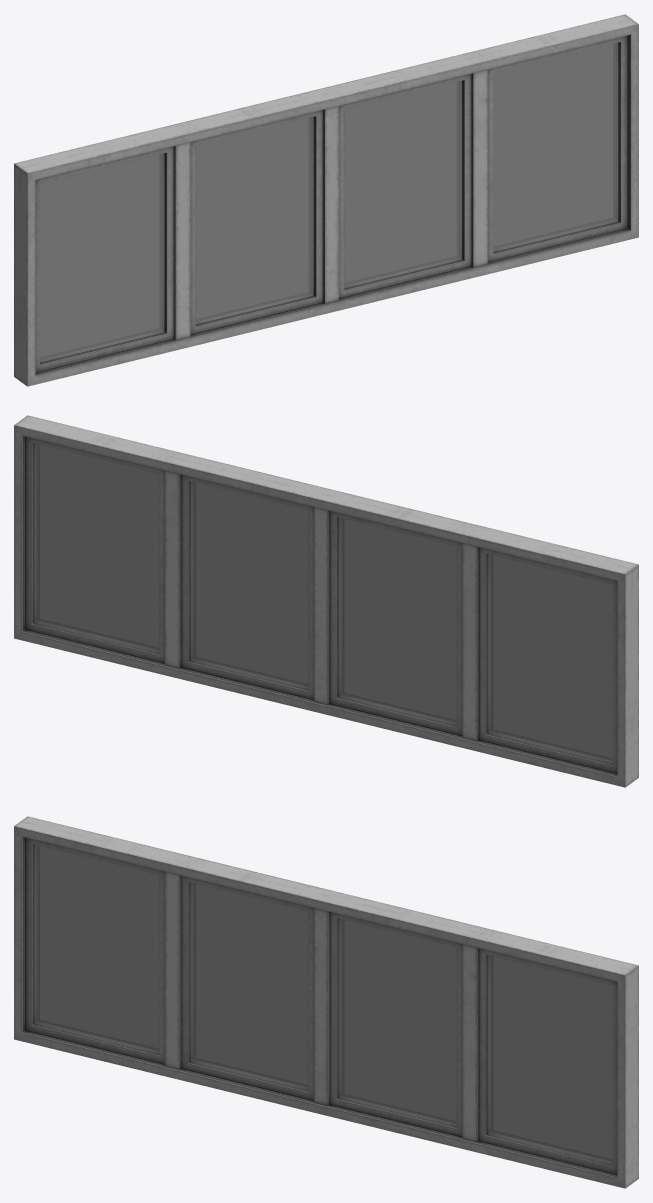
The model's file is Warehouse Office Window 3.fbx.
3 views of the same model, one above another, from view 1: azimuth 30°, elevation 25°; view 2: azimuth 150°, elevation 25°; view 3: azimuth 330°, elevation 25° (orthographic).
Visible parts, largest first — view 1: Warehouse_Office_Window_3; view 2: Warehouse_Office_Window_3; view 3: Warehouse_Office_Window_3.
Boxes of the visible parts, x1,y1,x2,y2 form: Warehouse_Office_Window_3: [14, 14, 638, 386]; Warehouse_Office_Window_3: [14, 415, 638, 787]; Warehouse_Office_Window_3: [14, 816, 638, 1188].
Size of the model in its own units: 300 by 100 by 11.53.
